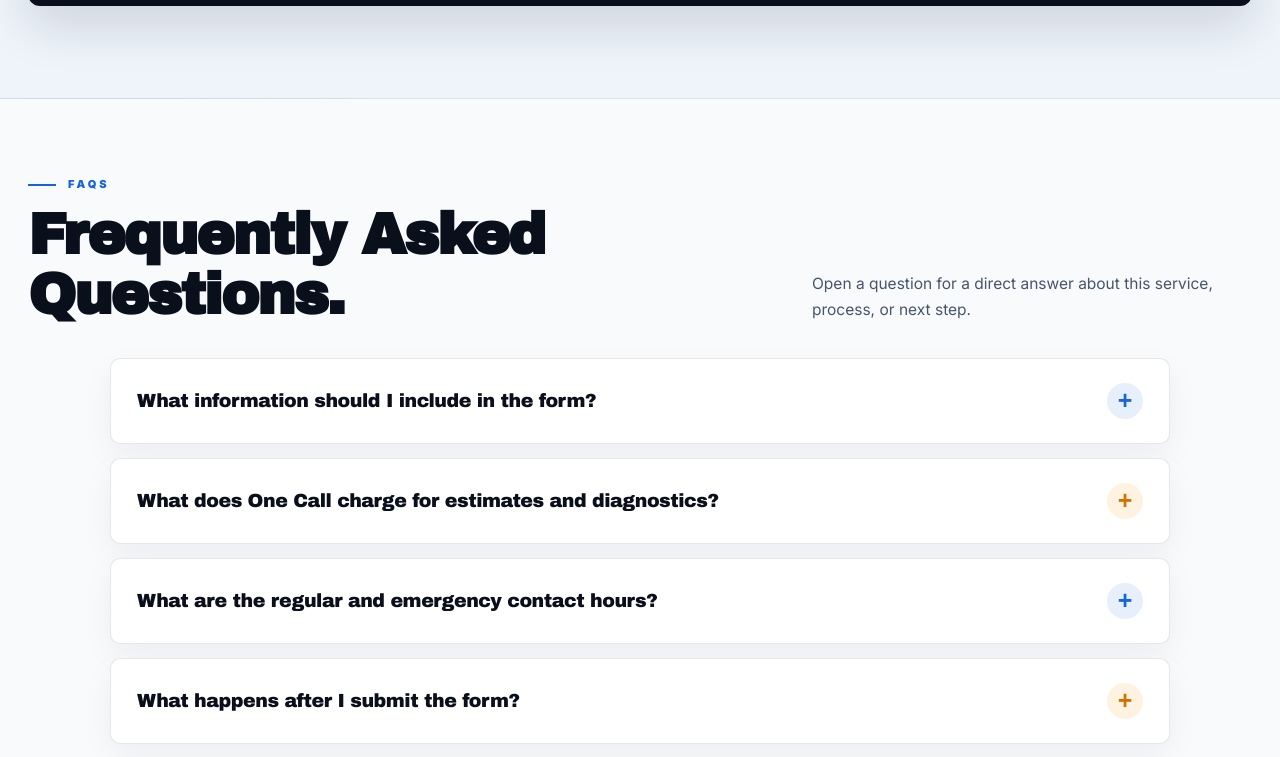
it: page answer sections › renders /contact answers visibly and mirrors them in structured data
The width and height of the screenshot is (1280, 757).
(page scrolled)
What coordinates should you click on to do the following:
click the button "What information should I include in the form?"
I would click on:
 (367, 400)
Its box is [111,359,1169,443].
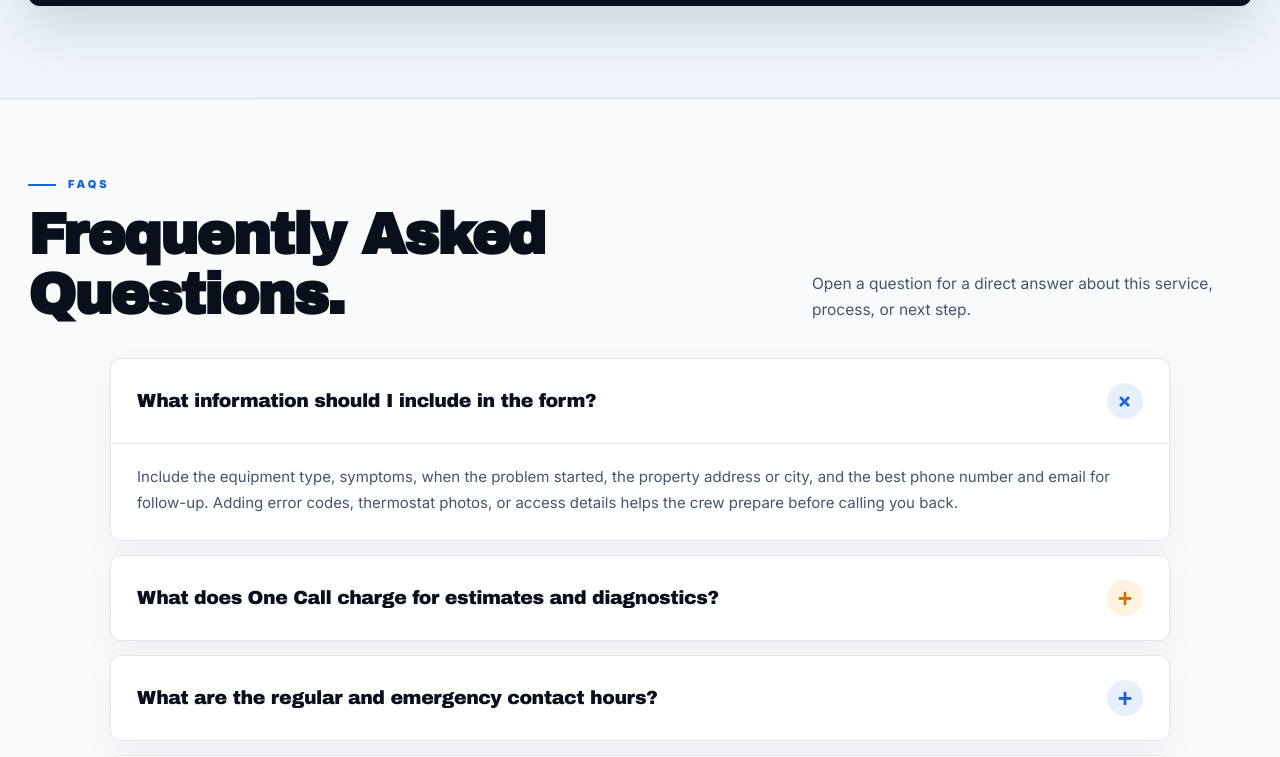
Check: the button "What information should I include in the form?" is expanded, box [111,359,1169,443]
